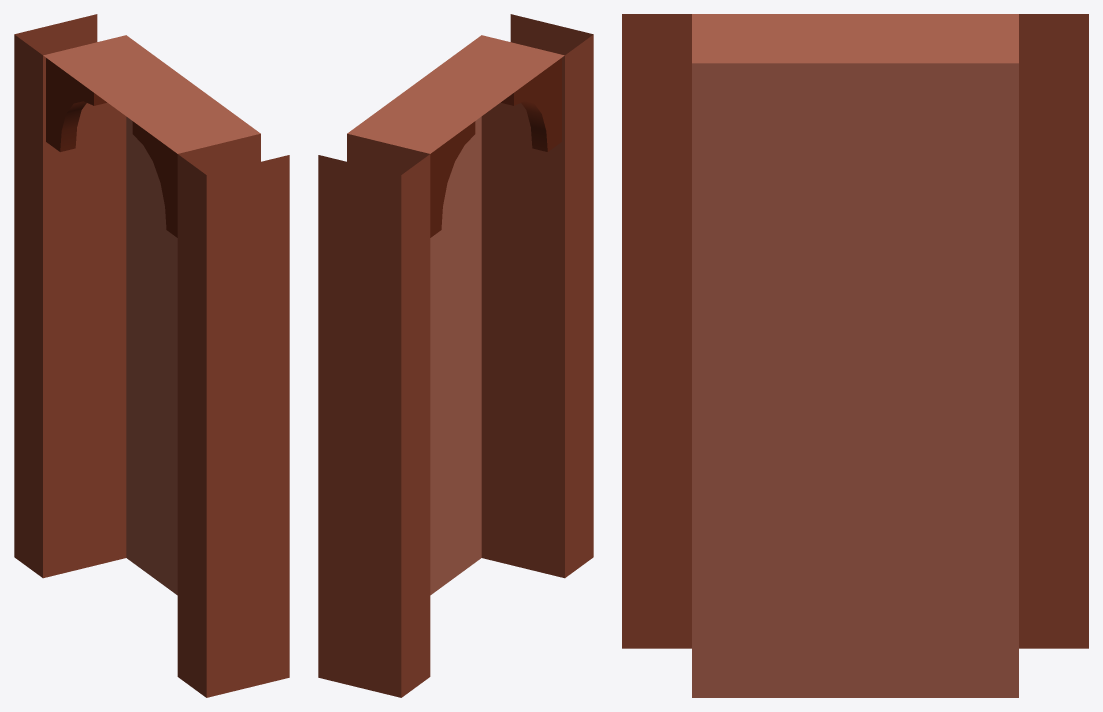
The model's file is SM_Book_Wall.fbx.
3 views of the same model, side by side, from view 1: azimuth 30°, elevation 25°; view 2: azimuth 150°, elevation 25°; view 3: azimuth 270°, elevation 25° (orthographic). The views are drawn at different scales.
Visible parts, largest first — view 1: Cube.026; view 2: Cube.026; view 3: Cube.026.
Part boxes in pixels (x1,y1,x2,y2): Cube.026: (14,14,289,697); Cube.026: (318,14,593,697); Cube.026: (622,14,1088,697).
Bounding box in the file's own units: 100 × 600 × 400.
